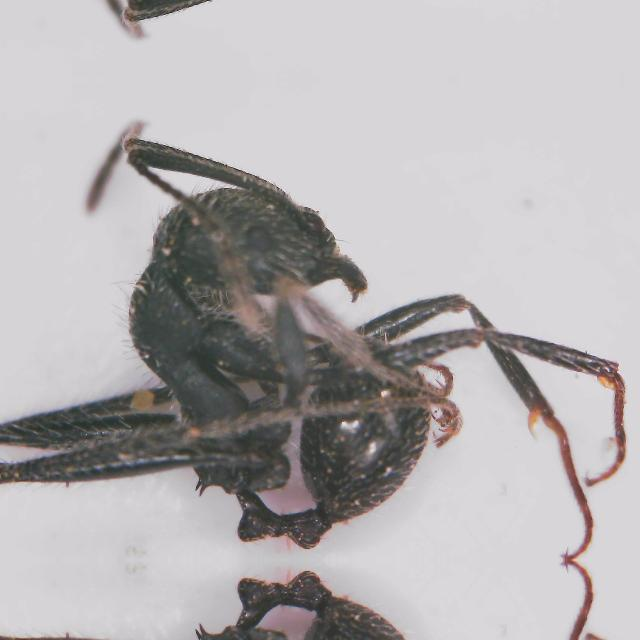Apheanogaster: (17, 126, 628, 560)
